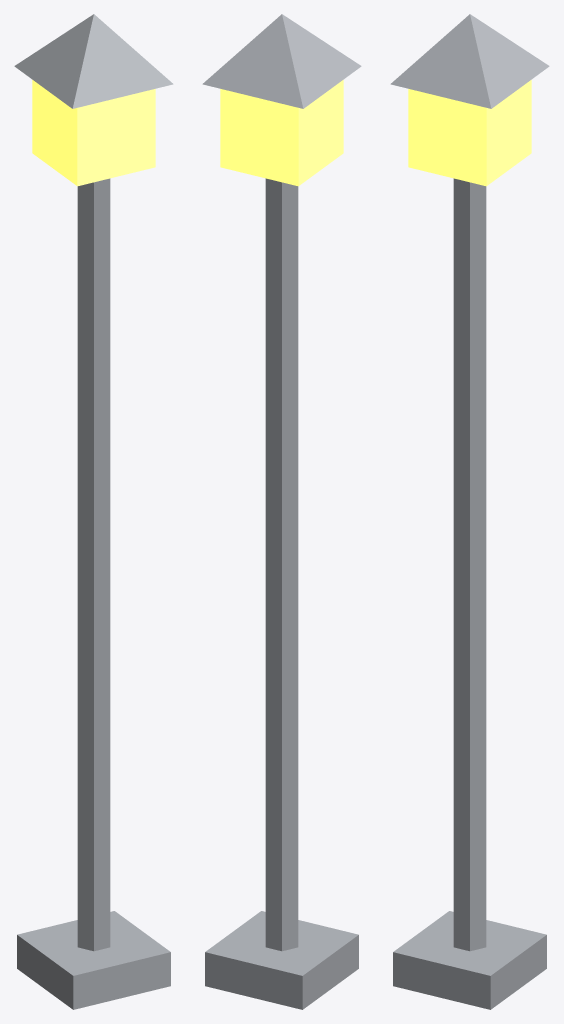
File: lamp-post.glb
3 renders of one model, left to right at view 1: azimuth 30°, elevation 25°; view 2: azimuth 150°, elevation 25°; view 3: azimuth 330°, elevation 25°, orthographic.
Parts seen in each view (by area): view 1: lamp-post; view 2: lamp-post; view 3: lamp-post.
Boxes of the visible parts, x1,y1,x2,y2 form: lamp-post: (14,14,173,1009); lamp-post: (202,14,361,1009); lamp-post: (390,14,549,1009).
Bounding box in the file's own units: 0.3112 × 2.83 × 0.3112.
